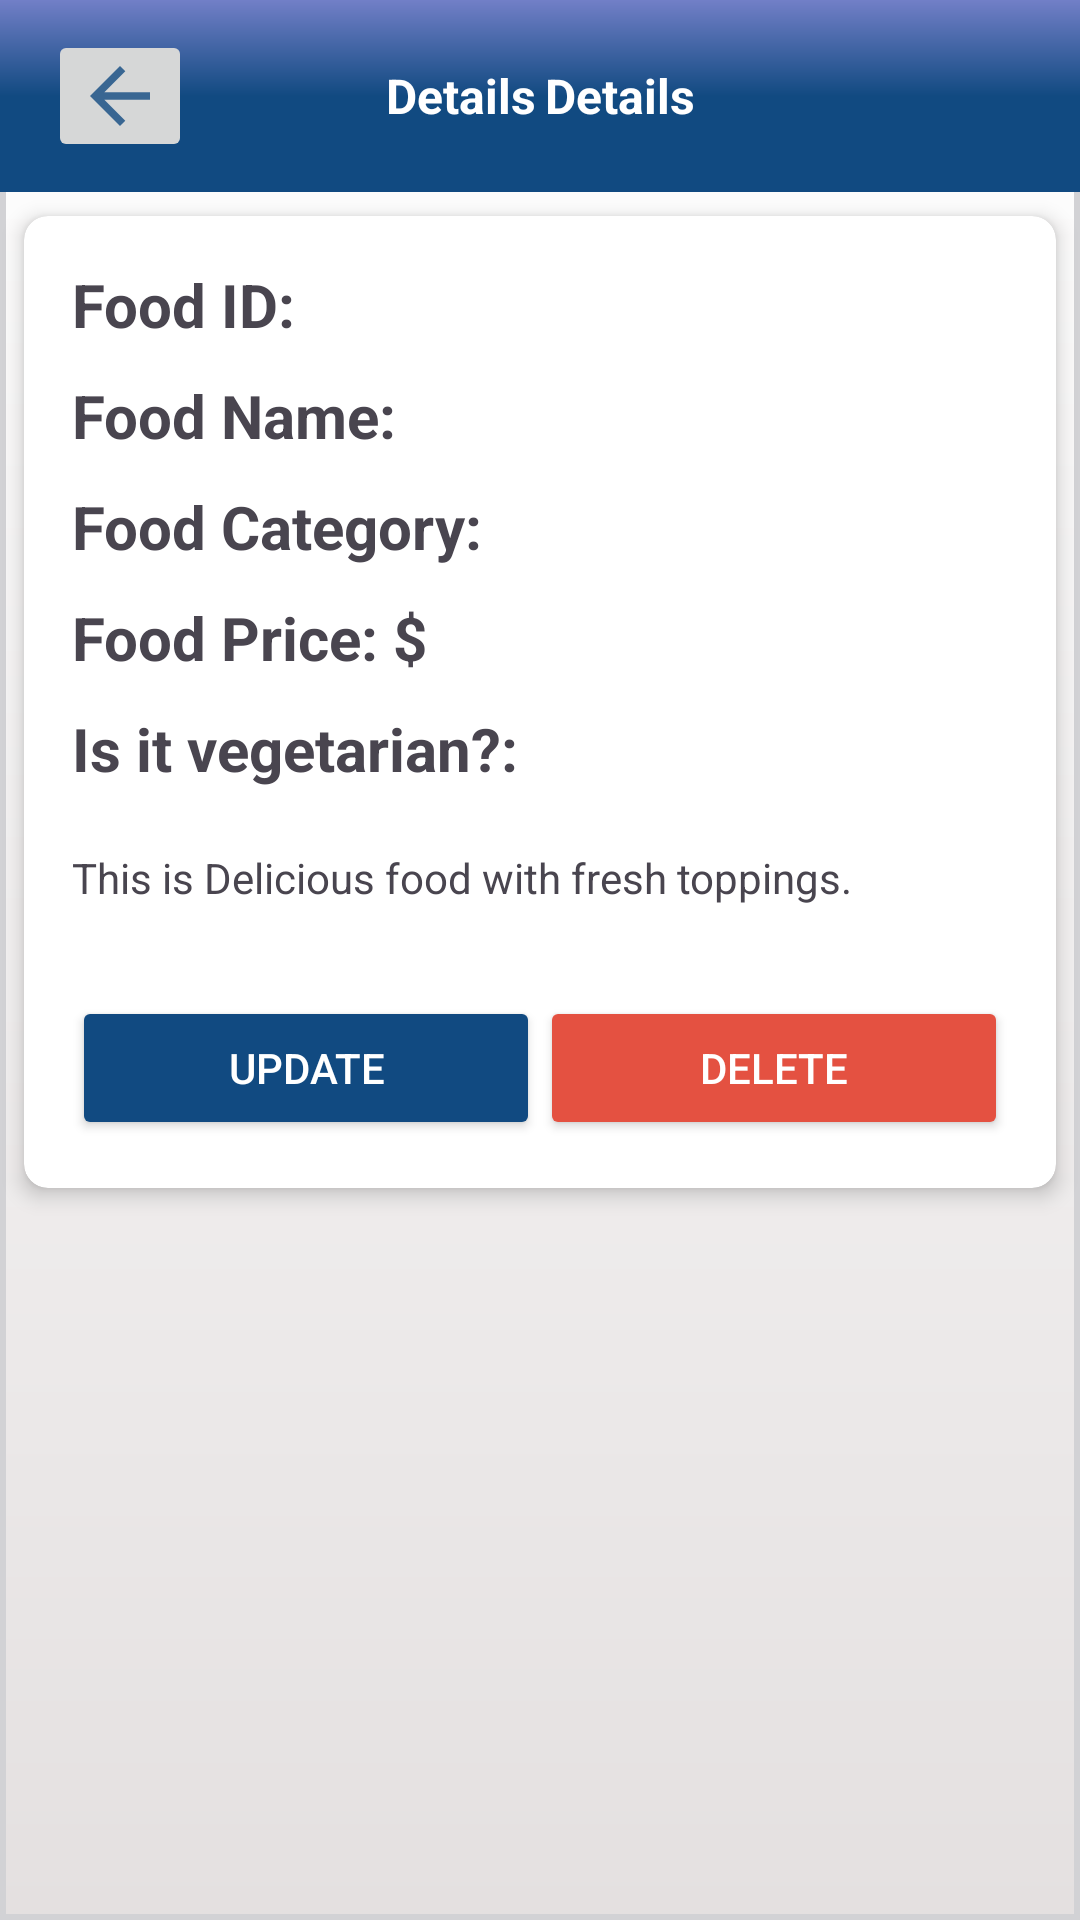

Icons on this 1080px x 1920px Android screen, each with the point to tap as (x,y):
back arrow: (120,96)
